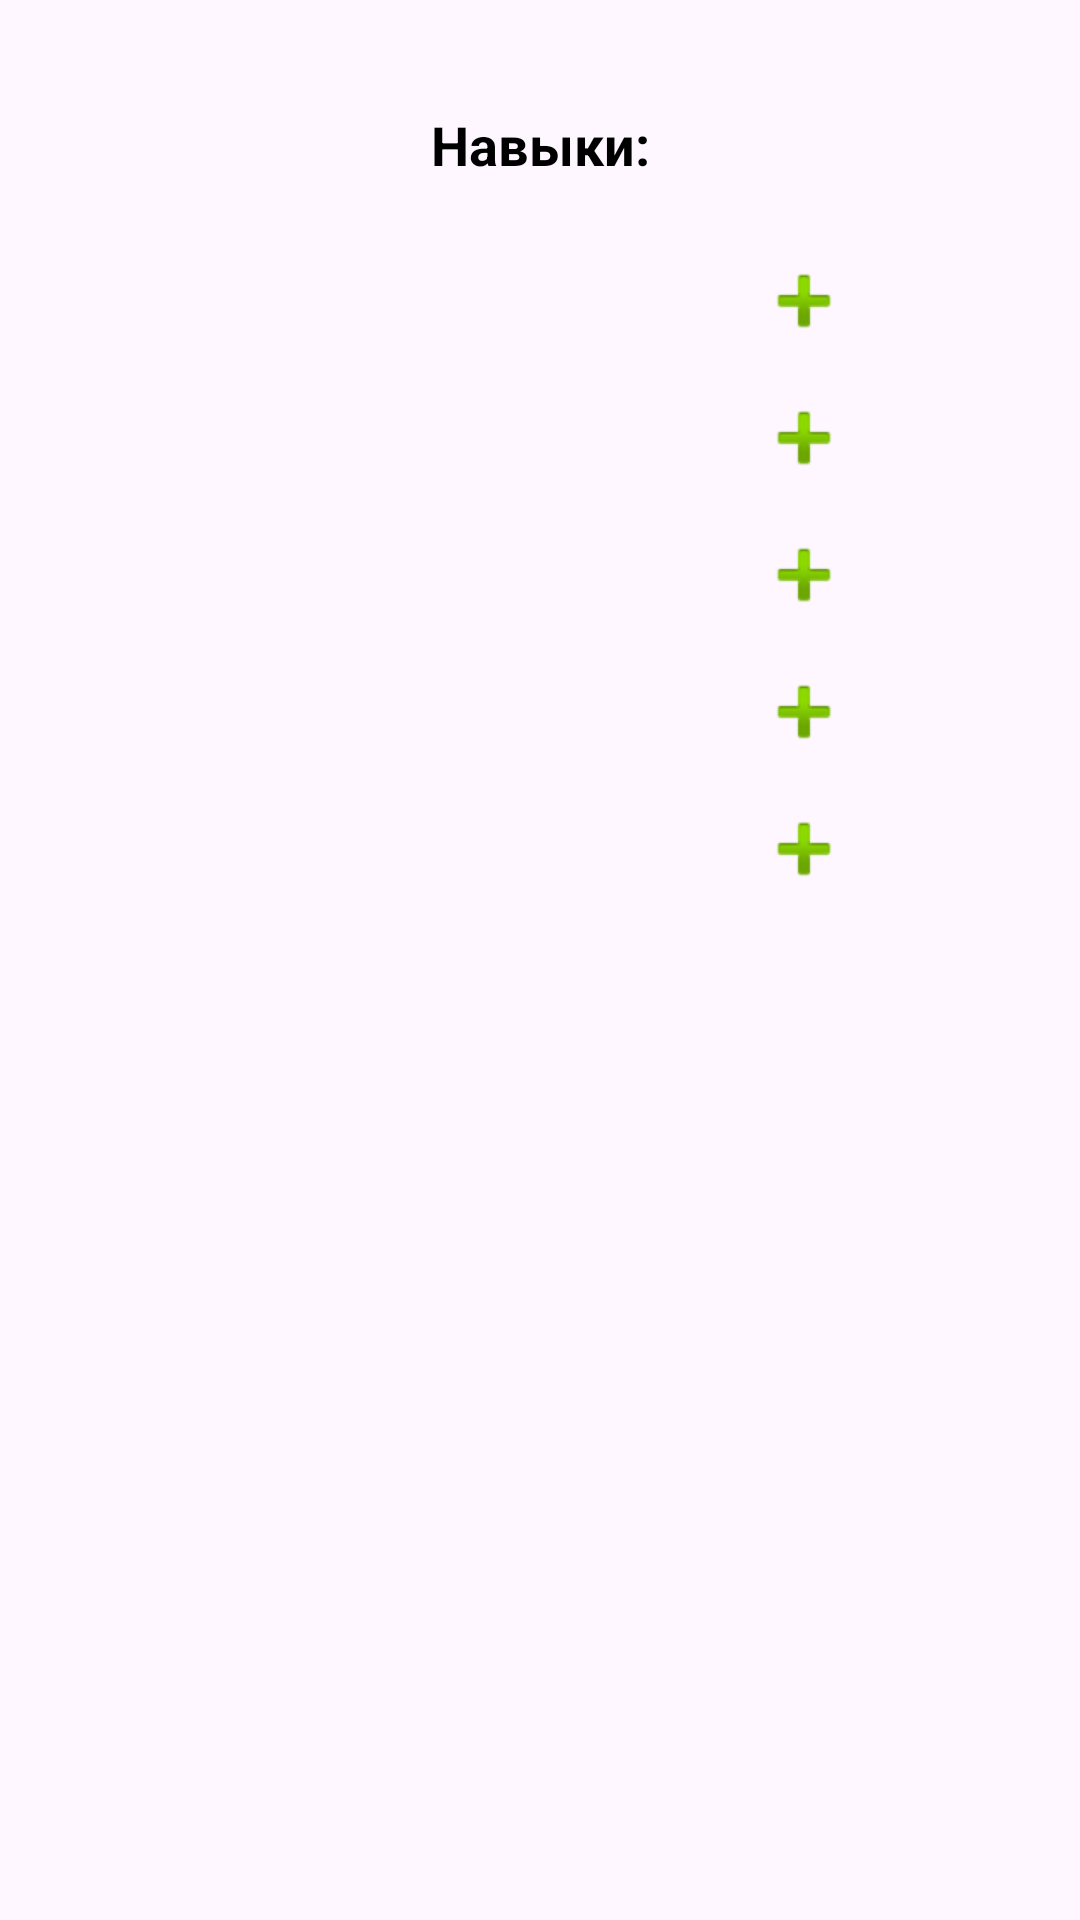

Named icons in this screenshot (1080px x 1920px) and their bounding boxes, (x1, y1, x2, y2):
add: (777, 274, 831, 328), (777, 411, 831, 465), (777, 548, 831, 602), (777, 685, 831, 739), (777, 822, 831, 876)
